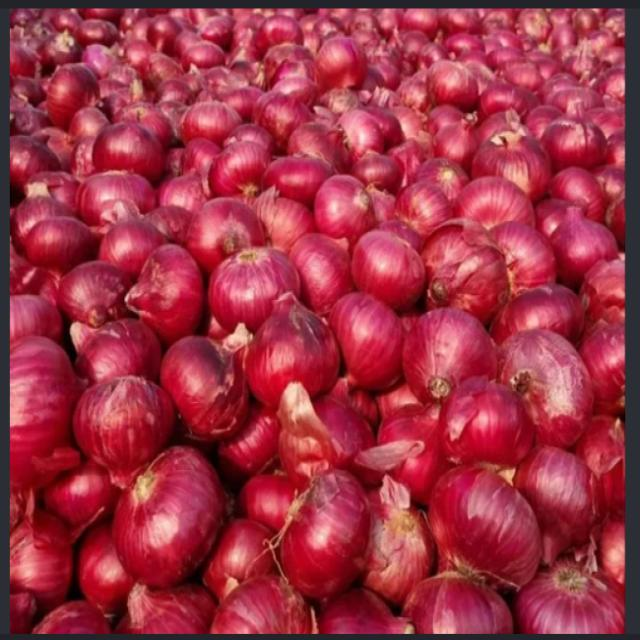healthy: (17, 13, 606, 622)
